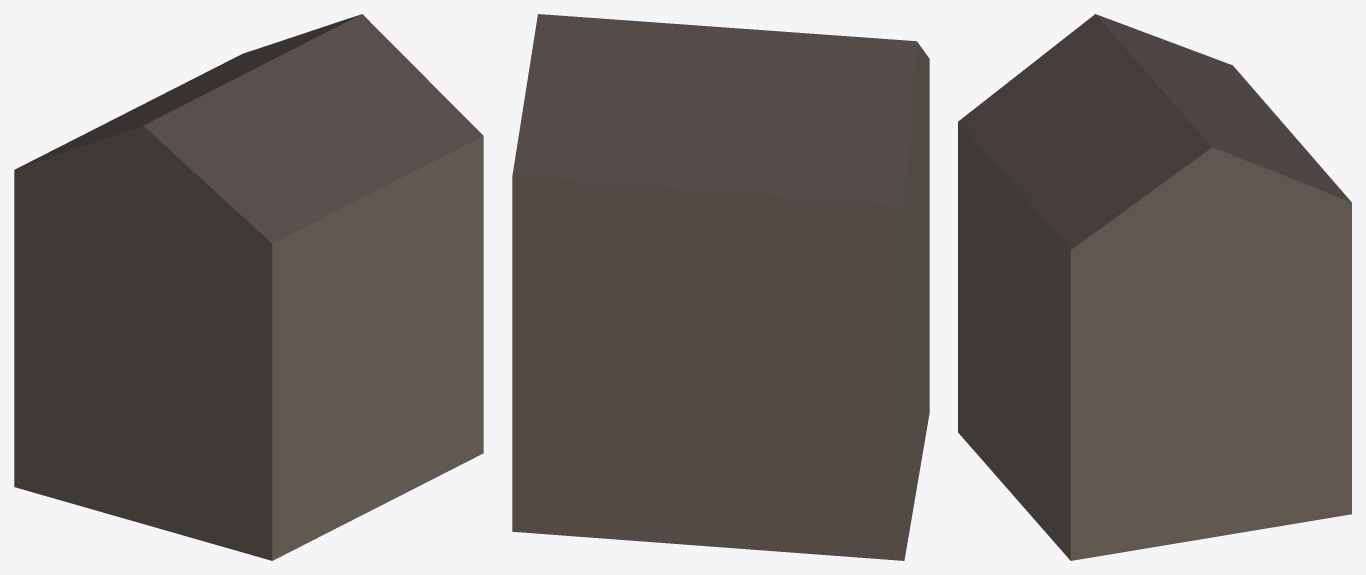
The picture shows the model from 3 angles, left to right: view 1: azimuth 30°, elevation 25°; view 2: azimuth 150°, elevation 25°; view 3: azimuth 270°, elevation 25°; orthographic projection. The views are drawn at different scales.
Parts seen in each view (by area): view 1: HP-w1198842499; view 2: HP-w1198842499; view 3: HP-w1198842499.
Part boxes in pixels (x1,y1,x2,y2): HP-w1198842499: [14, 14, 483, 560]; HP-w1198842499: [512, 14, 929, 560]; HP-w1198842499: [958, 14, 1351, 560].
Bounding box in the file's own units: 7.66 × 7.54 × 6.9.
